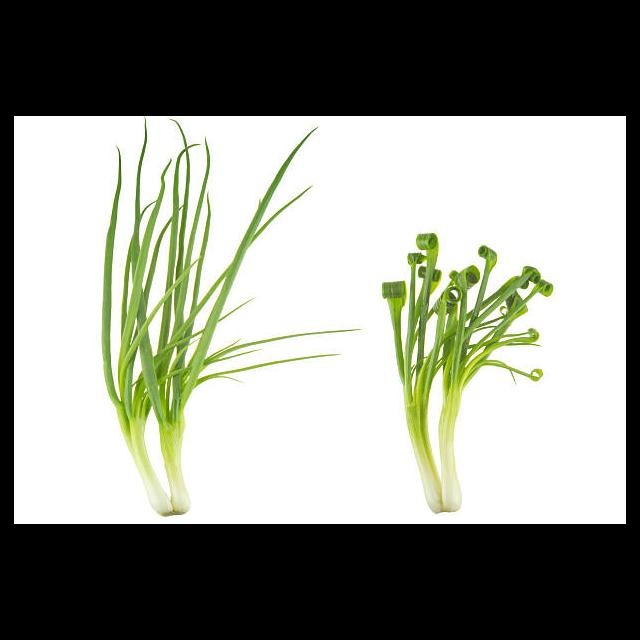green_onion: (80, 116, 232, 513)
